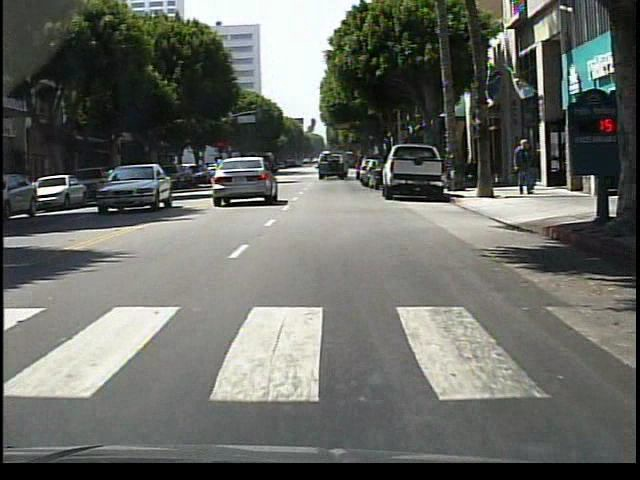person: (515, 139, 537, 199), (522, 147, 538, 195), (215, 157, 230, 201)
